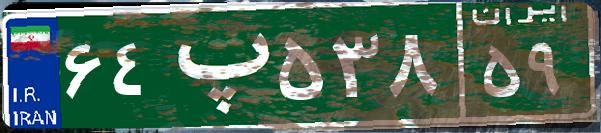3: (330, 28, 385, 110)
4: (110, 28, 158, 105)
5: (273, 28, 330, 110), (475, 38, 525, 113)
6: (57, 26, 110, 107)
8: (385, 28, 445, 110)
9: (525, 38, 570, 115)
پ: (158, 15, 273, 115)
